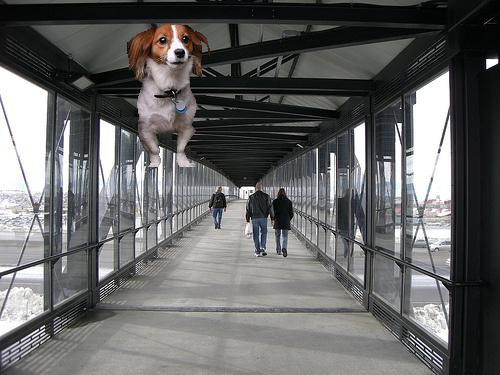tampered: (128, 25, 210, 167)
